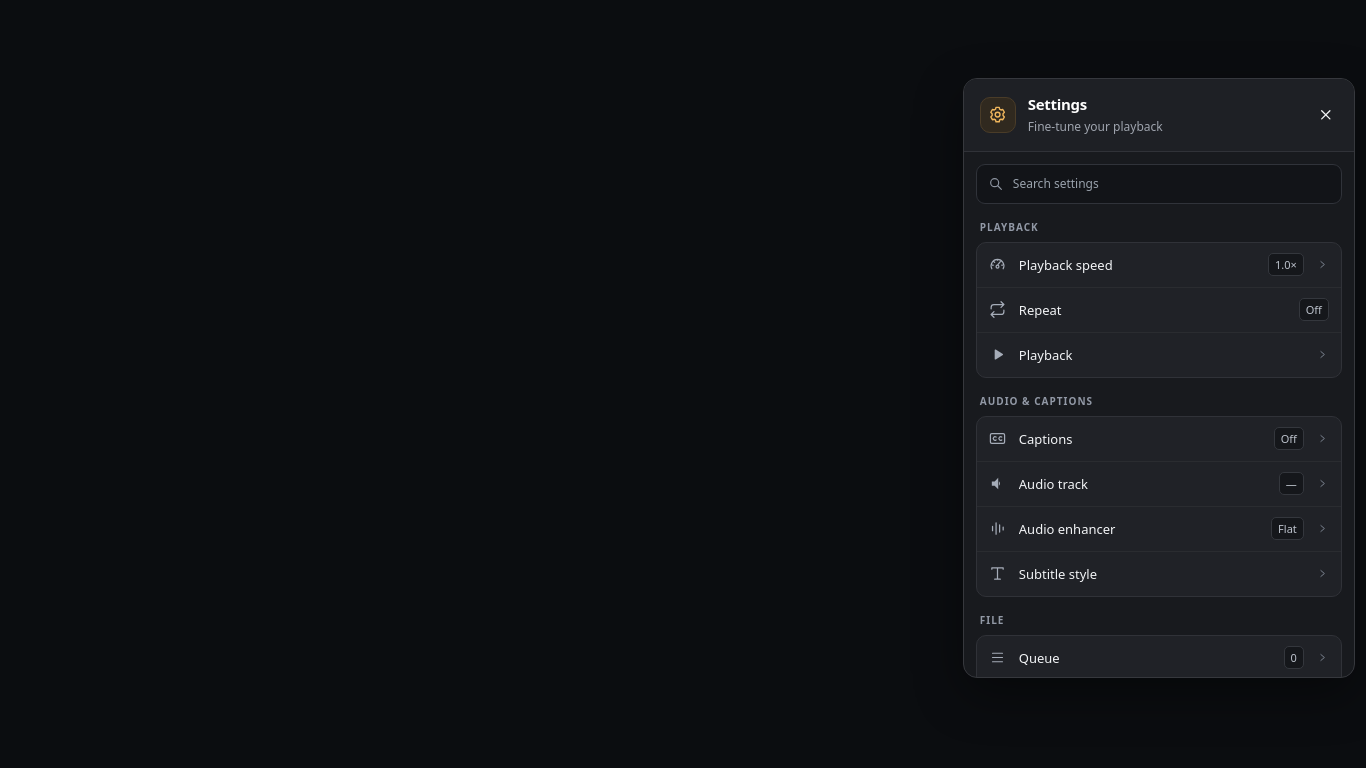
Test: SettingsPopup › opens Queue inside the popup instead of a side drawer
The width and height of the screenshot is (1366, 768).
What coordinates should you click on to do the following:
click the button "Queue 0"
I would click on:
 (1039, 658)
Its box is [977,636,1341,680].
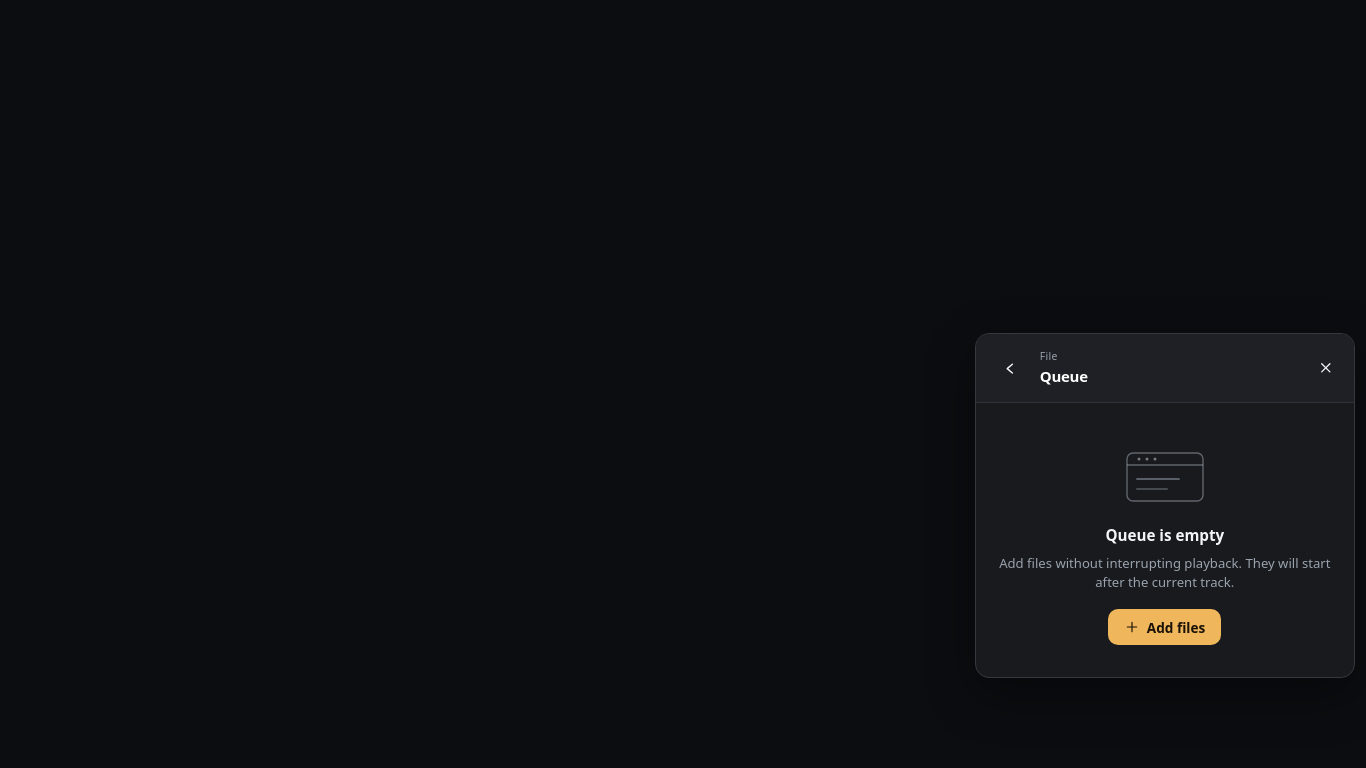
Expected: the dialog "Queue" is shown, [975,333,1355,678]
Now the text "Queue is empty" is shown, box [1105,525,1224,545]
Now the button "Add files" is shown, box [1108,609,1221,645]
